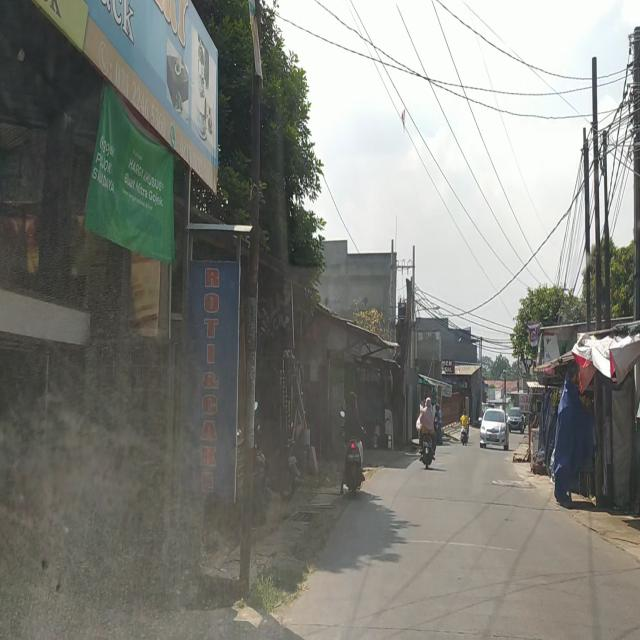Sewer Cover: (410, 494, 563, 512)
